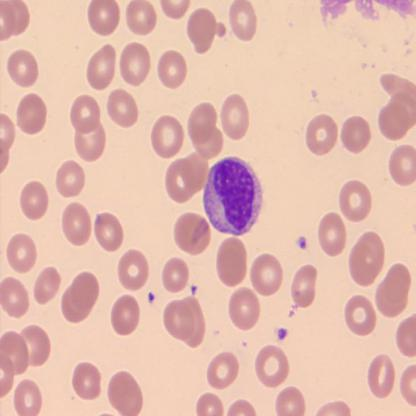Metamyelocyte: (200, 152, 265, 238)
